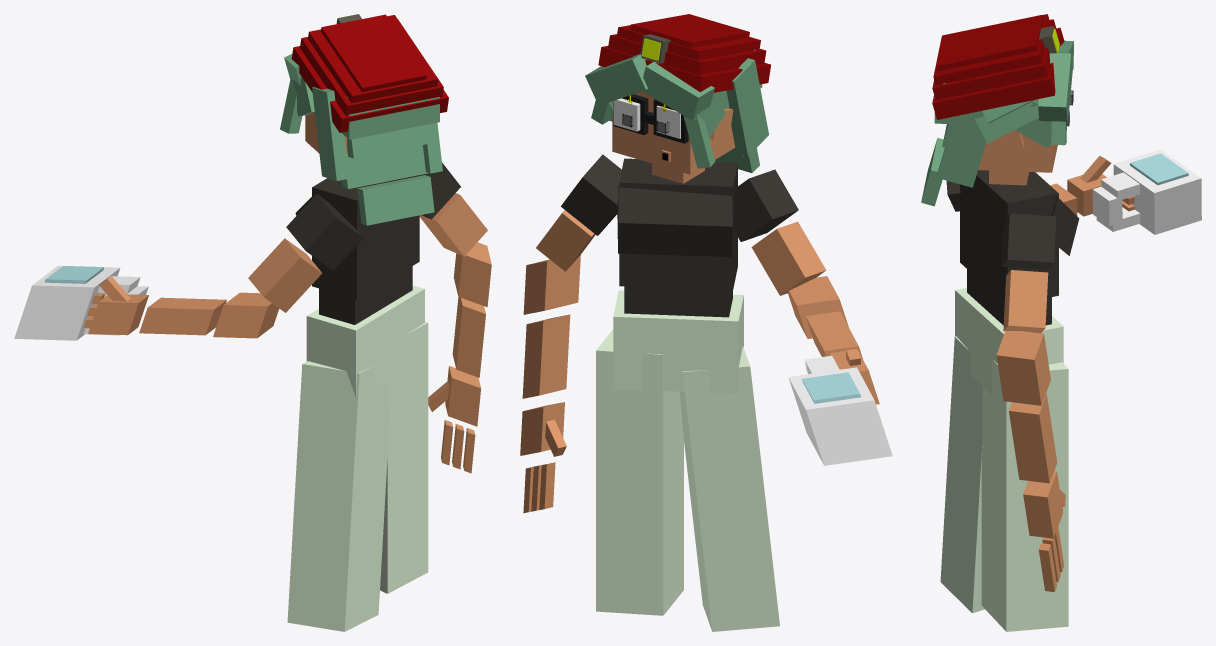
Rendered from CubicaMug.fbx.
3 renders of one model, left to right at view 1: azimuth 30°, elevation 25°; view 2: azimuth 150°, elevation 25°; view 3: azimuth 270°, elevation 25°, orthographic. The views are drawn at different scales.
Visible parts, largest first — view 1: B__2_, B__1_, B__3_, Torso, Cube__2__4, Cube__2_, Bark__1_, Arm1_1, Cube__10_, Arm3_1, Cube__1__5, B (+15 smaller); view 2: B__1_, B__2_, B__3_, Chest, Torso, Cube__2_, Arm3, Arm1_1, Bark__1_, B, Head, Bark (+20 smaller); view 3: B__1_, B__2_, Torso, Cube__2_, B__3_, Cube__2__4, Arm2, Arm3, Bark, Cube_5, Arm1, Cube__6_ (+20 smaller).
Part boxes in pixels (x1,y1,x2,y2): B__2_: [287, 361, 389, 631]; B__1_: [380, 321, 428, 593]; B__3_: [306, 285, 424, 396]; Torso: [312, 175, 419, 299]; Cube__2__4: [321, 14, 426, 92]; Cube__2_: [14, 265, 120, 340]; Bark__1_: [286, 194, 363, 270]; Arm1_1: [248, 238, 322, 312]; Cube__10_: [357, 175, 434, 225]; Arm3_1: [139, 297, 226, 335]; Cube__1__5: [308, 15, 438, 103]; B: [319, 266, 412, 324]; B__1_: [596, 329, 683, 615]; B__2_: [679, 346, 779, 631]; B__3_: [613, 290, 743, 393]; Chest: [617, 184, 732, 256]; Torso: [619, 158, 737, 290]; Cube__2_: [788, 367, 892, 465]; Arm3: [522, 314, 570, 398]; Arm1_1: [751, 221, 826, 295]; Bark__1_: [734, 169, 798, 241]; B: [624, 286, 732, 317]; Head: [612, 91, 735, 174]; Bark: [561, 154, 621, 235]; B__1_: [981, 359, 1068, 631]; B__2_: [940, 336, 984, 613]; Torso: [960, 170, 1058, 302]; Cube__2_: [1113, 149, 1201, 234]; B__3_: [955, 288, 1063, 394]; Cube__2__4: [936, 15, 1043, 71]; Arm2: [996, 331, 1050, 405]; Arm3: [1009, 393, 1057, 483]; Bark: [1001, 213, 1056, 269]; Cube_5: [932, 27, 1064, 119]; Arm1: [1003, 270, 1048, 333]; Cube__6_: [936, 111, 986, 187].
Bounding box in the file's own units: 1305 × 1722 × 746.
